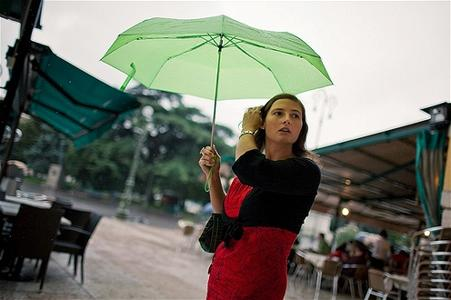person: (199, 94, 322, 300)
